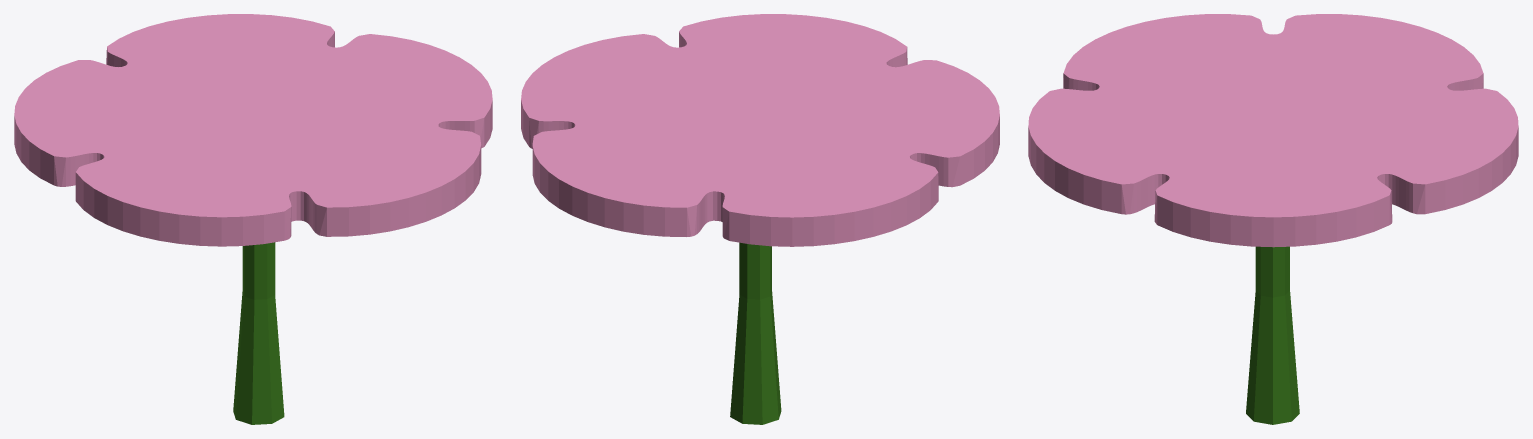
Rendered from Flower_table_1.fbx.
3 renders of one model, left to right at view 1: azimuth 30°, elevation 25°; view 2: azimuth 150°, elevation 25°; view 3: azimuth 270°, elevation 25°, orthographic.
Visible parts, largest first — view 1: Flower_table_1; view 2: Flower_table_1; view 3: Flower_table_1.
Boxes of the visible parts, bbox=[...] form: Flower_table_1: bbox=[14, 14, 492, 424]; Flower_table_1: bbox=[521, 14, 999, 424]; Flower_table_1: bbox=[1028, 14, 1518, 424].
Bounding box in the file's own units: 72.56 × 50.23 × 73.9.
